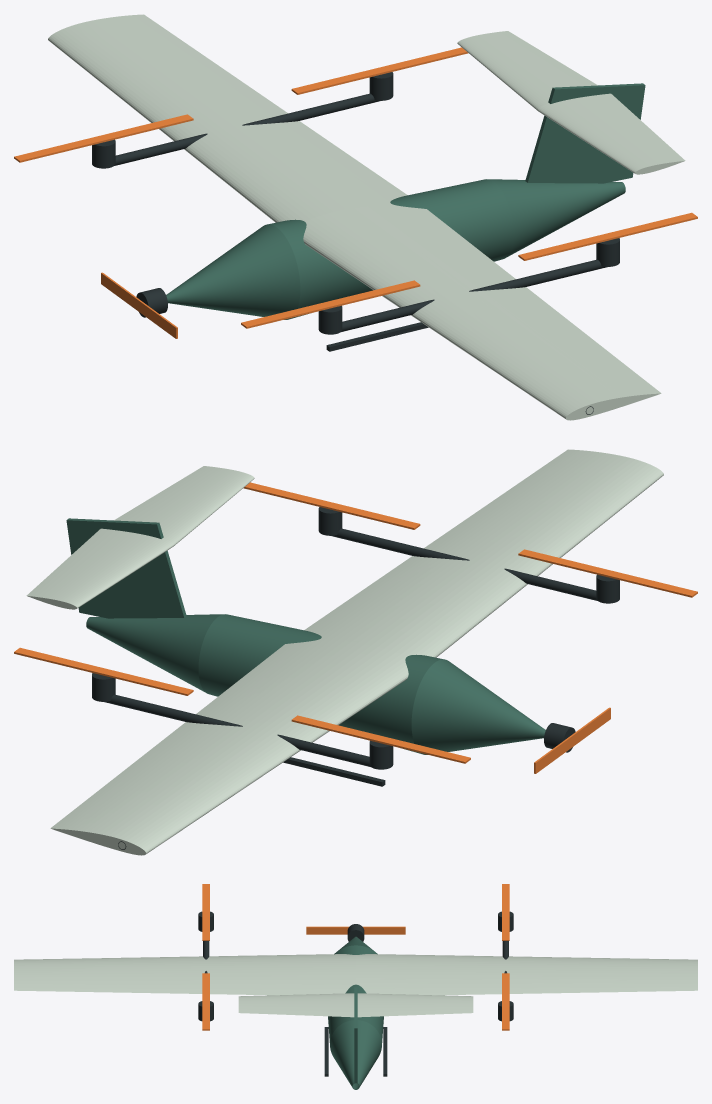
3 views of the same model, one above another, from view 1: azimuth 30°, elevation 25°; view 2: azimuth 150°, elevation 25°; view 3: azimuth 270°, elevation 25° (orthographic). The views are drawn at different scales.
Visible parts, largest first — view 1: wing-1, wing1, fuselage, tail-1, fin, tail1, boom-1, boom1, prop_1_130.0, prop_-1_130.0, prop_-1_780.0, prop_1_780.0 (+5 smaller); view 2: wing1, wing-1, fuselage, tail1, fin, tail-1, boom1, boom-1, prop_-1_130.0, prop_1_130.0, prop_1_780.0, prop_-1_780.0 (+5 smaller); view 3: wing-1, wing1, fuselage, tail-1, tail1, cruise_prop, prop_-1_780.0, prop_1_780.0, prop_-1_130.0, prop_1_130.0, fin.
Boxes of the visible parts, bbox=[...] form: wing-1: bbox=[303, 203, 661, 420]; wing1: bbox=[48, 14, 407, 222]; fuselage: bbox=[166, 179, 625, 319]; tail-1: bbox=[537, 93, 685, 174]; fin: bbox=[525, 83, 645, 183]; tail1: bbox=[457, 31, 597, 110]; boom-1: bbox=[341, 259, 607, 331]; boom1: bbox=[114, 93, 379, 165]; prop_1_130.0: bbox=[14, 114, 193, 162]; prop_-1_130.0: bbox=[241, 280, 420, 328]; prop_-1_780.0: bbox=[518, 212, 697, 260]; prop_1_780.0: bbox=[291, 47, 468, 94]; wing1: bbox=[50, 638, 408, 855]; wing-1: bbox=[304, 449, 663, 657]; fuselage: bbox=[86, 614, 545, 754]; tail1: bbox=[26, 528, 174, 609]; fin: bbox=[66, 518, 186, 618]; tail-1: bbox=[114, 466, 254, 545]; boom1: bbox=[104, 694, 370, 766]; boom-1: bbox=[332, 528, 597, 600]; prop_-1_130.0: bbox=[518, 549, 697, 597]; prop_1_130.0: bbox=[291, 715, 470, 763]; prop_1_780.0: bbox=[14, 647, 193, 695]; prop_-1_780.0: bbox=[243, 482, 420, 529]; wing-1: bbox=[14, 954, 355, 995]; wing1: bbox=[356, 954, 697, 995]; fuselage: bbox=[328, 936, 383, 1089]; tail-1: bbox=[238, 993, 354, 1017]; tail1: bbox=[357, 993, 473, 1017]; cruise_prop: bbox=[306, 926, 405, 934]; prop_-1_780.0: bbox=[202, 973, 209, 1030]; prop_1_780.0: bbox=[502, 973, 509, 1030]; prop_-1_130.0: bbox=[202, 884, 209, 940]; prop_1_130.0: bbox=[502, 884, 509, 940]; fin: bbox=[354, 987, 357, 1083].
Size of the model in its own units: 1203 by 415 by 2100.
